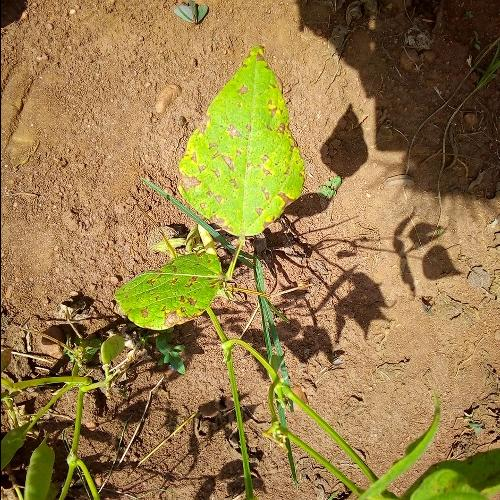hawar: (232, 98, 300, 218), (174, 118, 235, 233), (134, 266, 196, 324)
